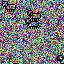sheep: (1, 0, 17, 13), (26, 9, 41, 22), (25, 18, 40, 29), (56, 54, 64, 64)
